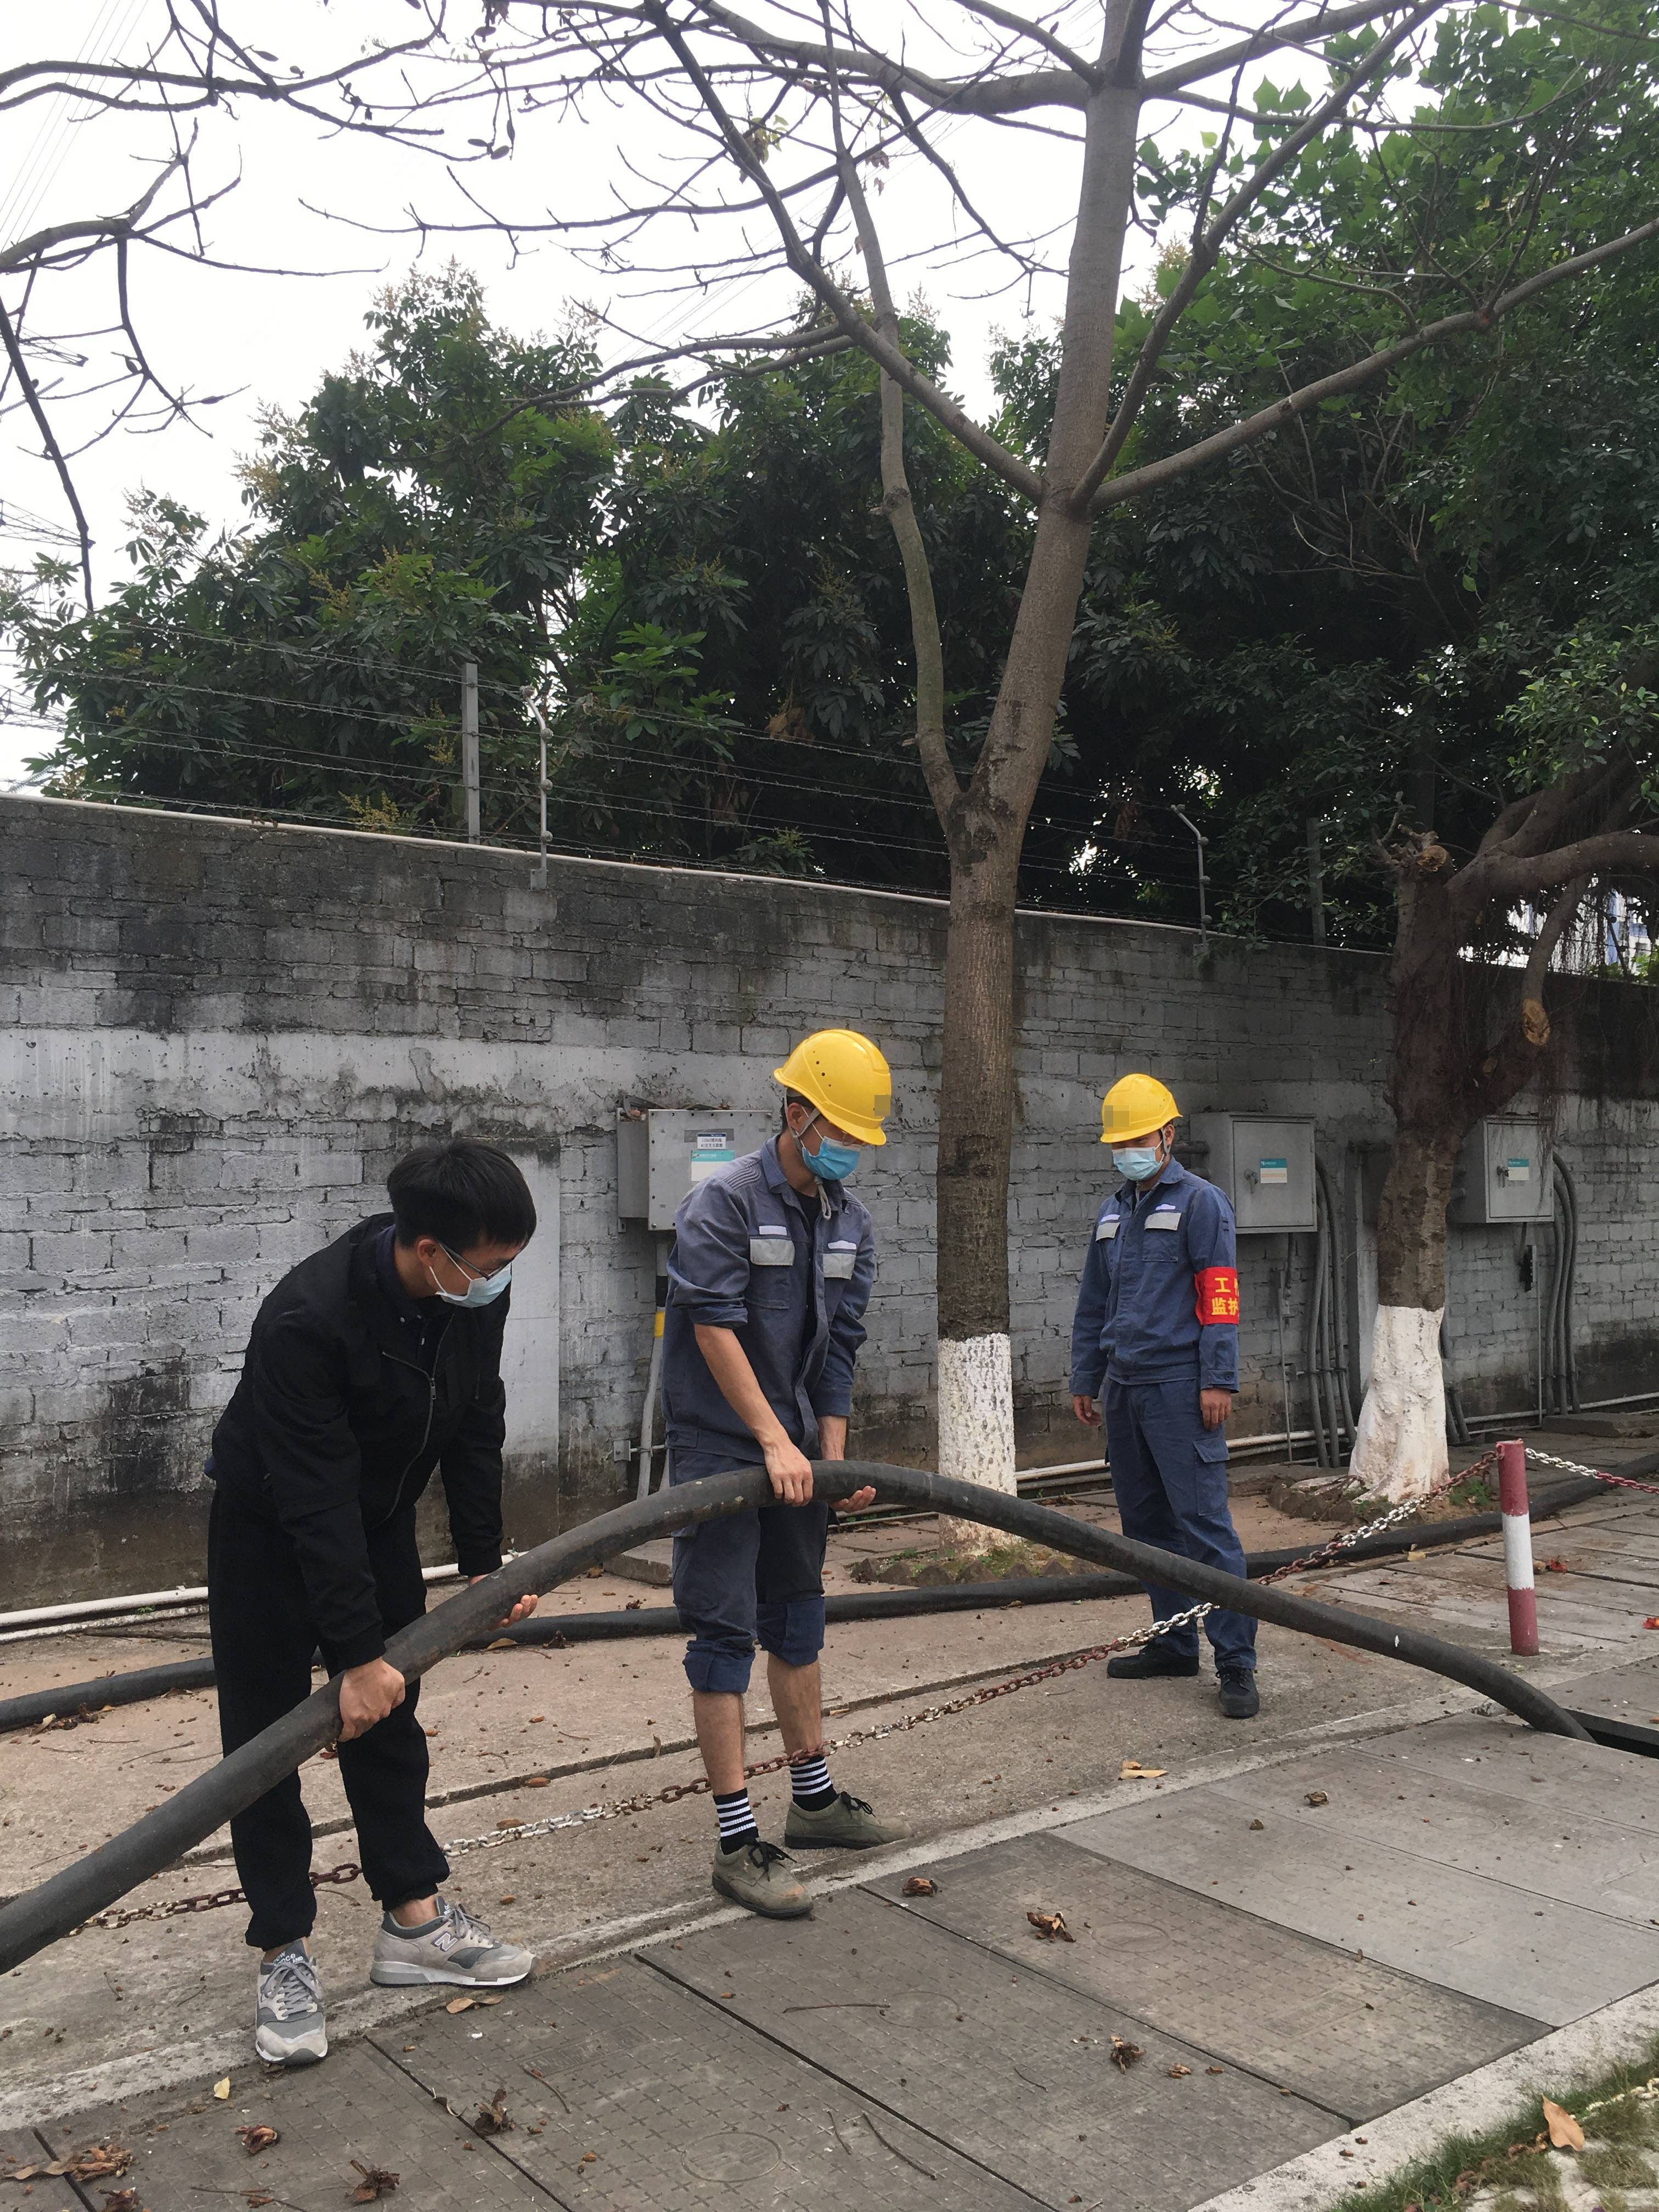downcloth: (183, 1465, 474, 1946)
downsuit: (1108, 1402, 1258, 1655), (678, 1480, 840, 1698)
upcloth: (193, 1214, 521, 1646)
upsuit: (673, 1155, 873, 1454), (1060, 1158, 1255, 1386)
wrongbottom: (681, 1644, 762, 1829), (763, 1625, 840, 1789)
wrongtop: (681, 1291, 854, 1501)
